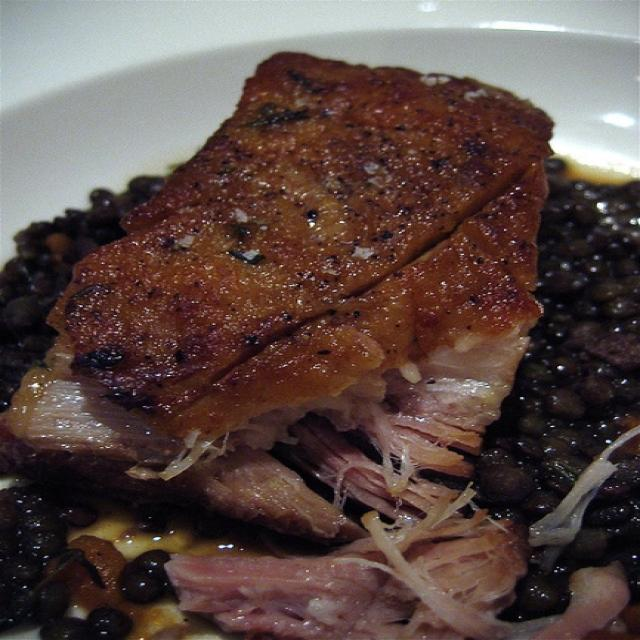牛肉菜式: (13, 24, 580, 562)
